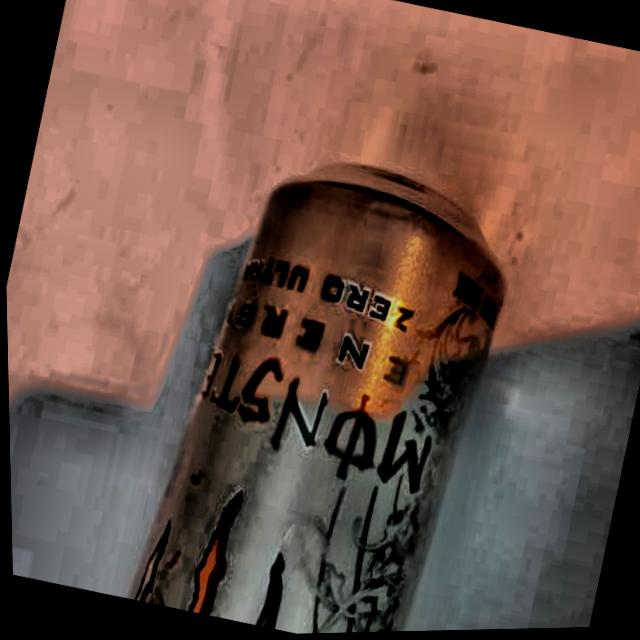Cans: (94, 104, 546, 638)
